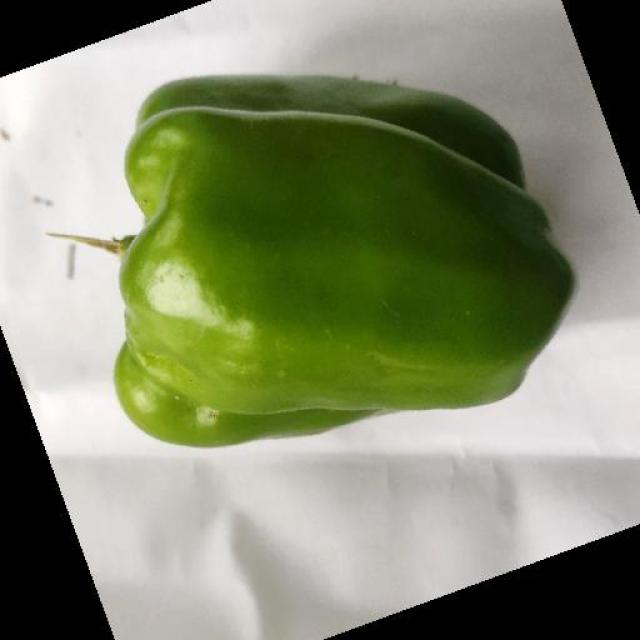Fresh_Capsicum: (141, 118, 548, 399)
